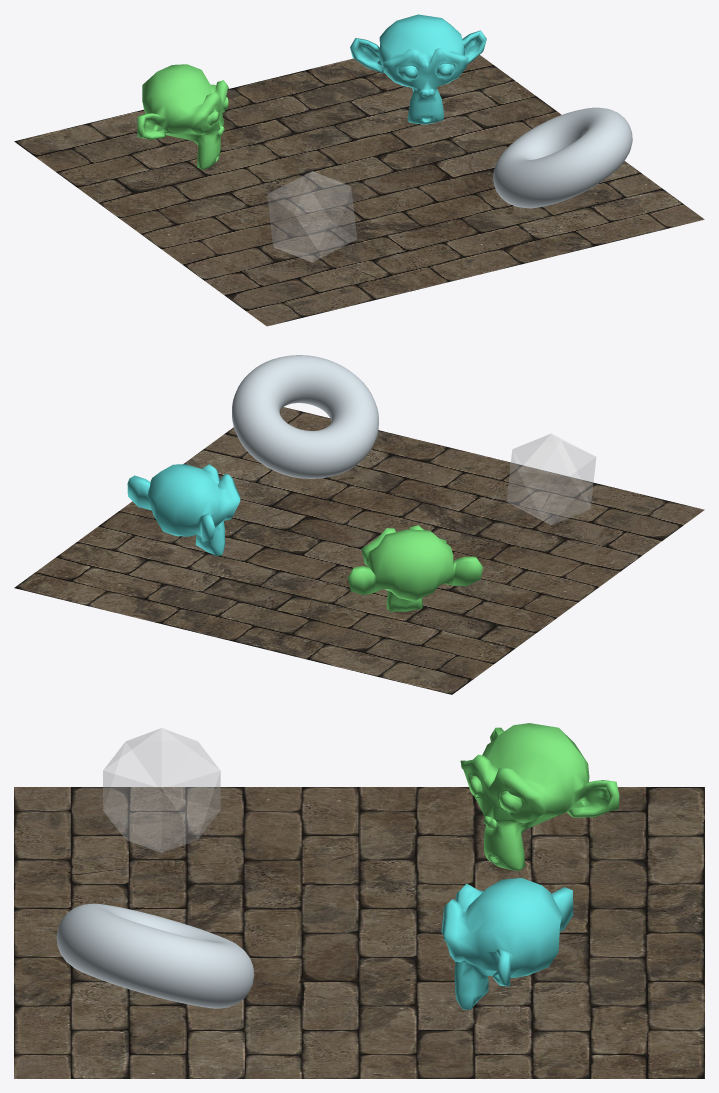
3 renders of one model, top to bottom at view 1: azimuth 30°, elevation 25°; view 2: azimuth 150°, elevation 25°; view 3: azimuth 270°, elevation 25°, orthographic. The views are drawn at different scales.
Visible parts, largest first — view 1: Plane, Torus, Susanne.001, Susanne.000, Icosphere; view 2: Plane, Torus, Susanne.000, Susanne.001, Icosphere; view 3: Plane, Torus, Susanne.000, Susanne.001, Icosphere.
Boxes of the visible parts, x1,y1,x2,y2 form: Plane: (14,55,704,326); Torus: (493,107,632,208); Susanne.001: (350,14,486,124); Susanne.000: (137,64,228,169); Icosphere: (267,171,356,262); Plane: (14,407,704,694); Torus: (232,355,378,478); Susanne.000: (348,525,482,611); Susanne.001: (127,464,240,555); Icosphere: (506,433,595,524); Plane: (14,787,704,1078); Torus: (56,903,254,1008); Susanne.000: (460,723,619,870); Susanne.001: (441,878,573,1009); Icosphere: (103,728,220,852).
Bounding box in the file's own units: 10 × 2 × 10.
5 materials, 1 textured.
